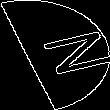N_W: (11, 28, 99, 82)
